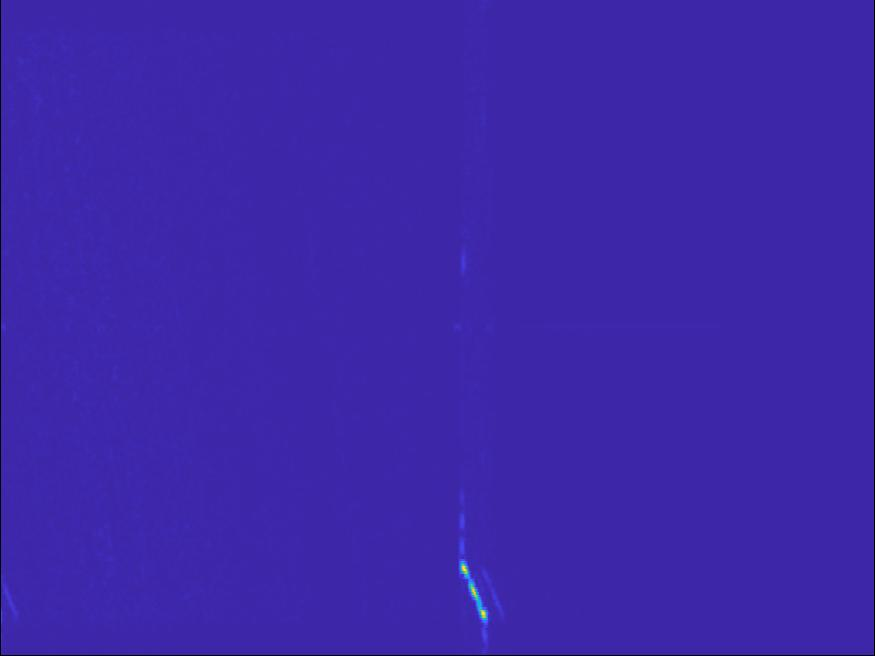Interference: (37, 255, 205, 361), (320, 290, 513, 354), (410, 236, 501, 275), (813, 367, 875, 408)
